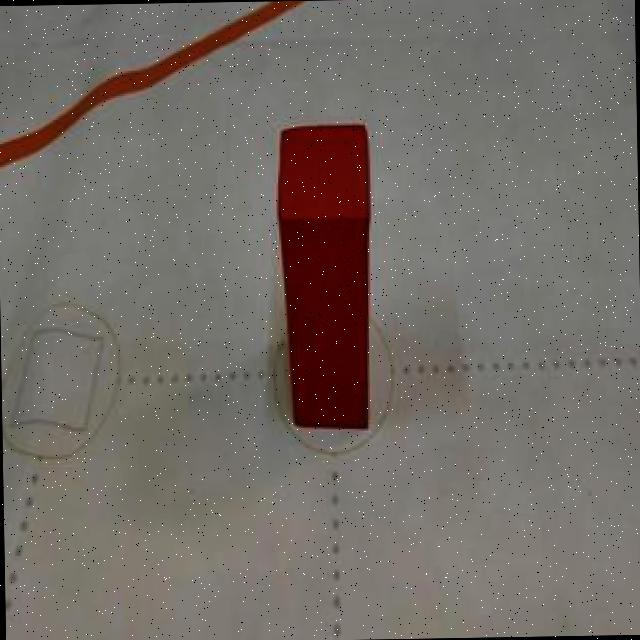redbox: (276, 121, 375, 429)
